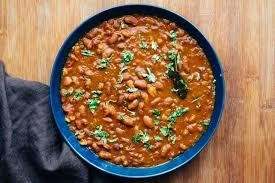rajma: (64, 16, 217, 162)
